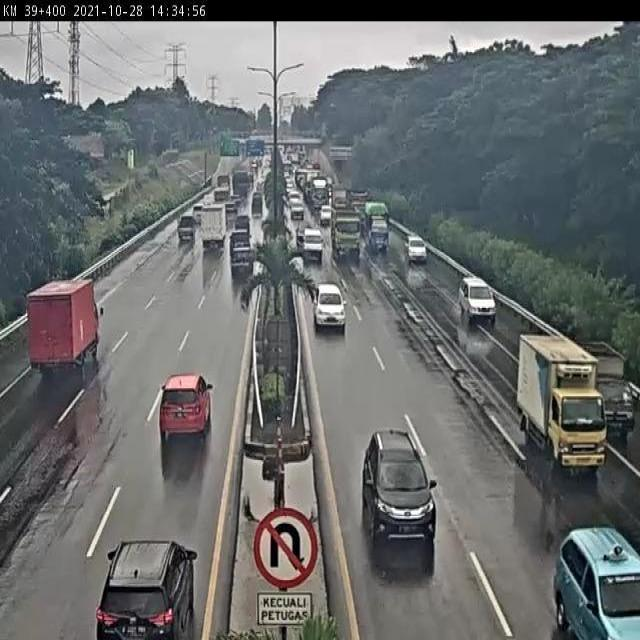big truck: (326, 211, 358, 257)
car: (546, 493, 640, 640), (89, 538, 196, 638), (361, 421, 444, 547), (151, 360, 214, 469), (587, 359, 639, 437), (308, 283, 348, 345), (457, 275, 493, 328), (398, 228, 428, 265), (299, 224, 325, 263), (225, 250, 251, 286), (173, 215, 196, 245), (231, 236, 248, 251)
small truck: (516, 338, 604, 466), (21, 276, 111, 396), (191, 200, 227, 264), (365, 208, 389, 253), (192, 420, 196, 443)
